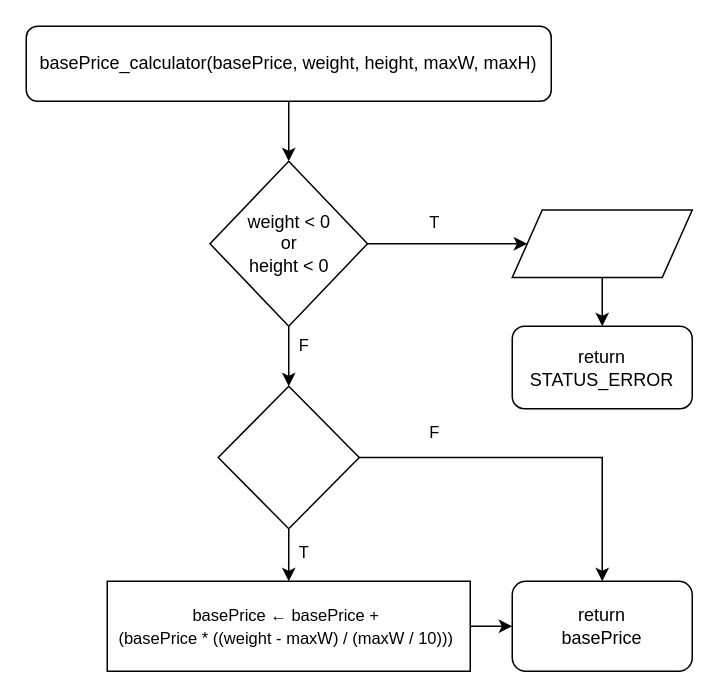
Image size: 719x698. Some labels were removed from this diagram. Here are the shapes that lost their labels. From the top down, the box of each, then its label:
(511, 208, 692, 278): output(ERROR)
(217, 385, 359, 529): weight > maxW
